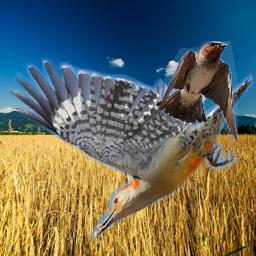Swallow: (156, 41, 238, 143)
Woodpecker: (6, 58, 253, 242)
